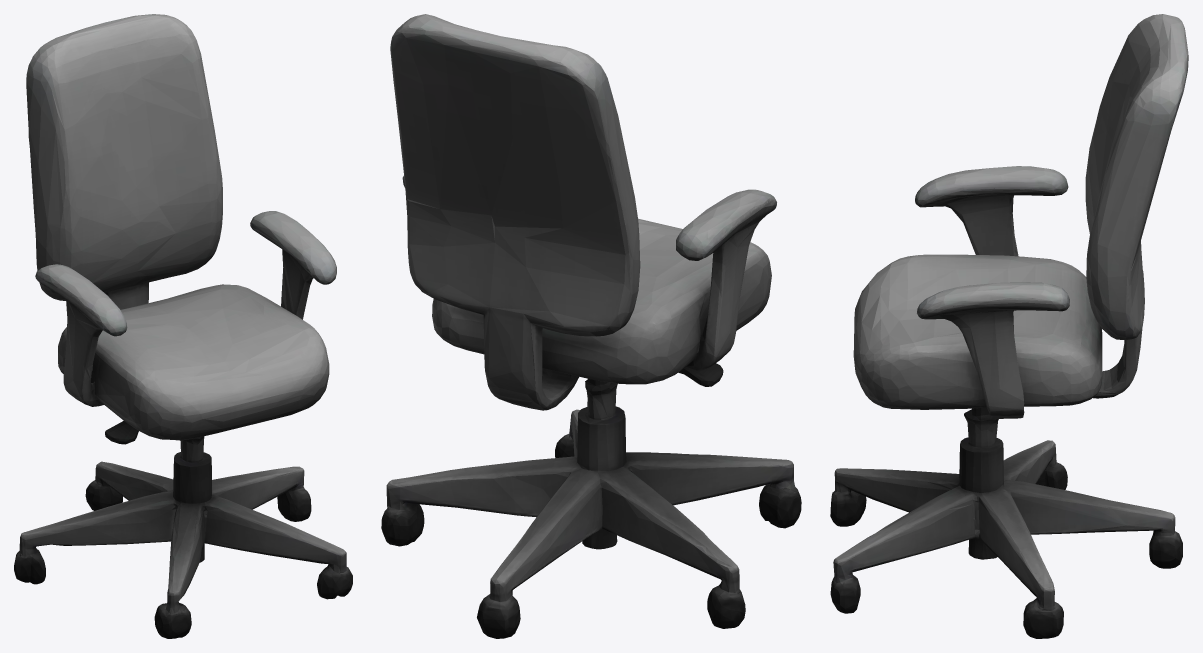
3 renders of one model, left to right at view 1: azimuth 30°, elevation 25°; view 2: azimuth 150°, elevation 25°; view 3: azimuth 270°, elevation 25°, orthographic. The views are drawn at different scales.
Parts seen in each view (by area): view 1: geometry_0; view 2: geometry_0; view 3: geometry_0.
Boxes of the visible parts, box(x1,y1,x2,y2) form: geometry_0: box(14, 14, 352, 638); geometry_0: box(381, 14, 801, 638); geometry_0: box(830, 14, 1188, 638).
Size of the model in its own units: 0.6298 by 1 by 0.621.
Materials: 1 (1 with a texture image).
